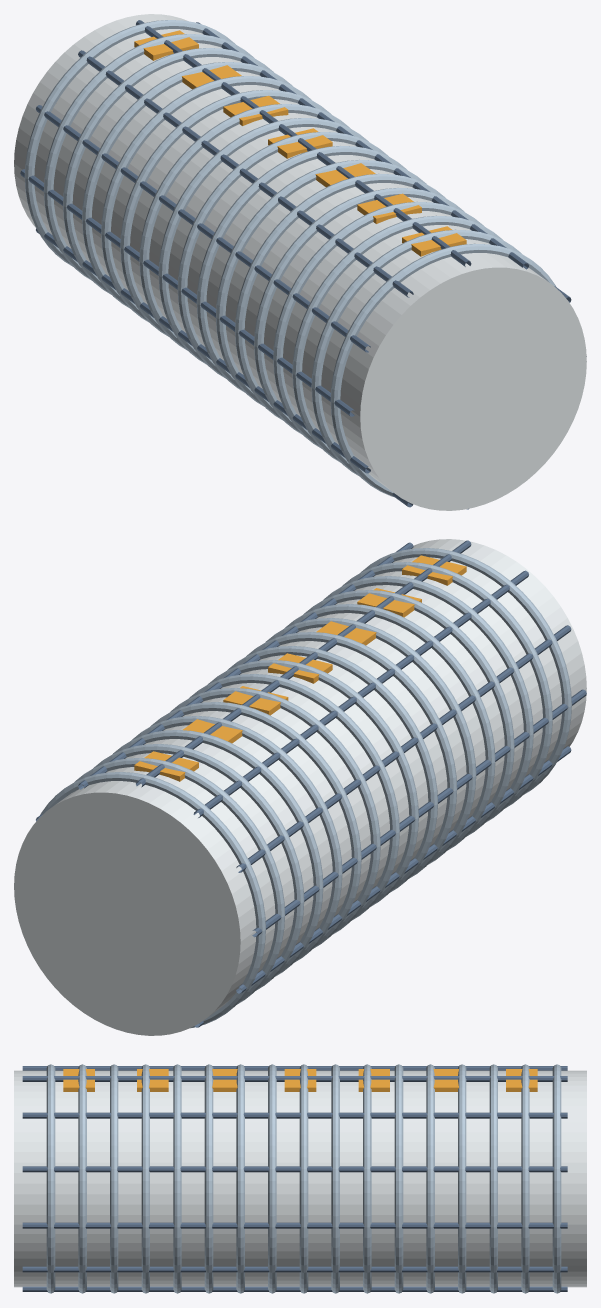
Rendered from 16_L90_Aurora1MainFuselage.fbx.
The picture shows the model from 3 angles, top to bottom: view 1: azimuth 30°, elevation 25°; view 2: azimuth 150°, elevation 25°; view 3: azimuth 270°, elevation 25°; orthographic projection. The views are drawn at different scales.
Visible parts, largest first — view 1: L90_Aurora1MainFuselage_Part_0000, L90_Aurora1MainFuselage_Part_0001, L90_Aurora1MainFuselage_Part_0002, L90_Aurora1MainFuselage_Part_0003; view 2: L90_Aurora1MainFuselage_Part_0000, L90_Aurora1MainFuselage_Part_0001, L90_Aurora1MainFuselage_Part_0002, L90_Aurora1MainFuselage_Part_0003; view 3: L90_Aurora1MainFuselage_Part_0000, L90_Aurora1MainFuselage_Part_0001, L90_Aurora1MainFuselage_Part_0002, L90_Aurora1MainFuselage_Part_0003.
Part boxes in pixels (x1,y1,x2,y2): L90_Aurora1MainFuselage_Part_0000: (14, 14, 586, 510); L90_Aurora1MainFuselage_Part_0001: (24, 20, 556, 497); L90_Aurora1MainFuselage_Part_0002: (20, 20, 586, 509); L90_Aurora1MainFuselage_Part_0003: (134, 30, 466, 256); L90_Aurora1MainFuselage_Part_0000: (14, 539, 586, 1035); L90_Aurora1MainFuselage_Part_0001: (40, 548, 571, 1028); L90_Aurora1MainFuselage_Part_0002: (36, 540, 586, 1027); L90_Aurora1MainFuselage_Part_0003: (134, 555, 466, 781); L90_Aurora1MainFuselage_Part_0000: (14, 1070, 586, 1287); L90_Aurora1MainFuselage_Part_0001: (46, 1064, 561, 1293); L90_Aurora1MainFuselage_Part_0002: (22, 1066, 567, 1291); L90_Aurora1MainFuselage_Part_0003: (63, 1069, 537, 1091).
Size of the model in its own units: 326 by 326 by 815.
